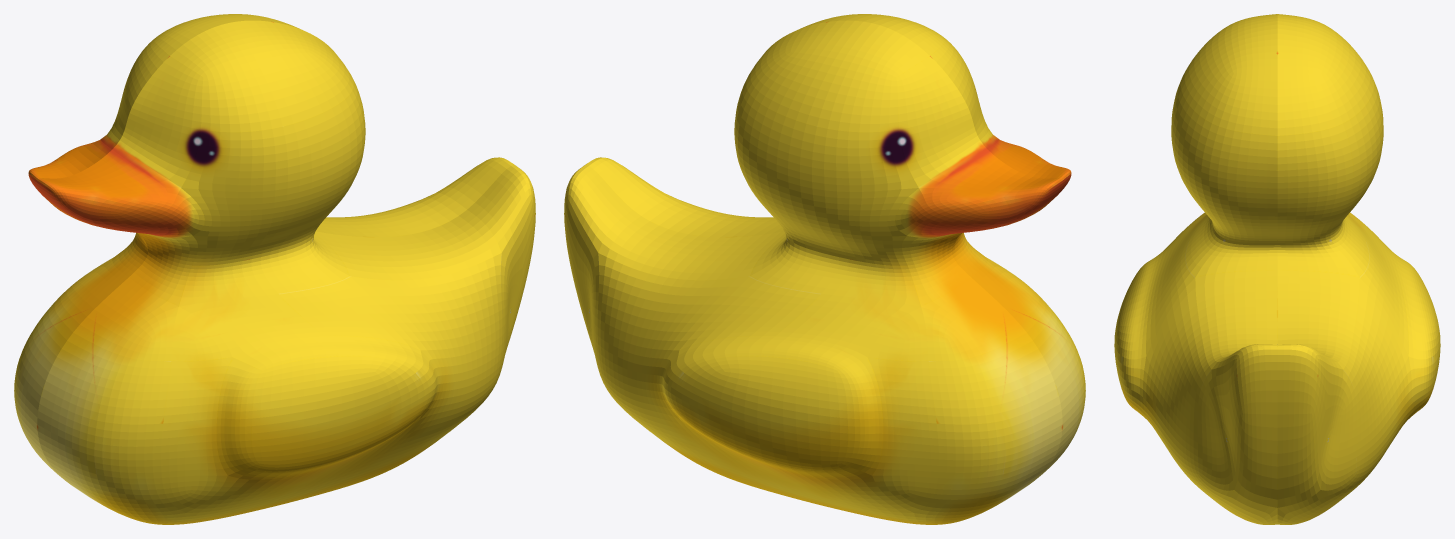
File: duck_yellow.obj
The picture shows the model from 3 angles, left to right: view 1: azimuth 30°, elevation 25°; view 2: azimuth 150°, elevation 25°; view 3: azimuth 270°, elevation 25°; orthographic projection. The views are drawn at different scales.
Parts seen in each view (by area): view 1: Cube; view 2: Cube; view 3: Cube.
Part boxes in pixels (x1,y1,x2,y2): Cube: (14, 14, 535, 524); Cube: (564, 14, 1085, 524); Cube: (1114, 14, 1440, 524).
Size of the model in its own units: 6.11 by 5.75 by 3.89.
